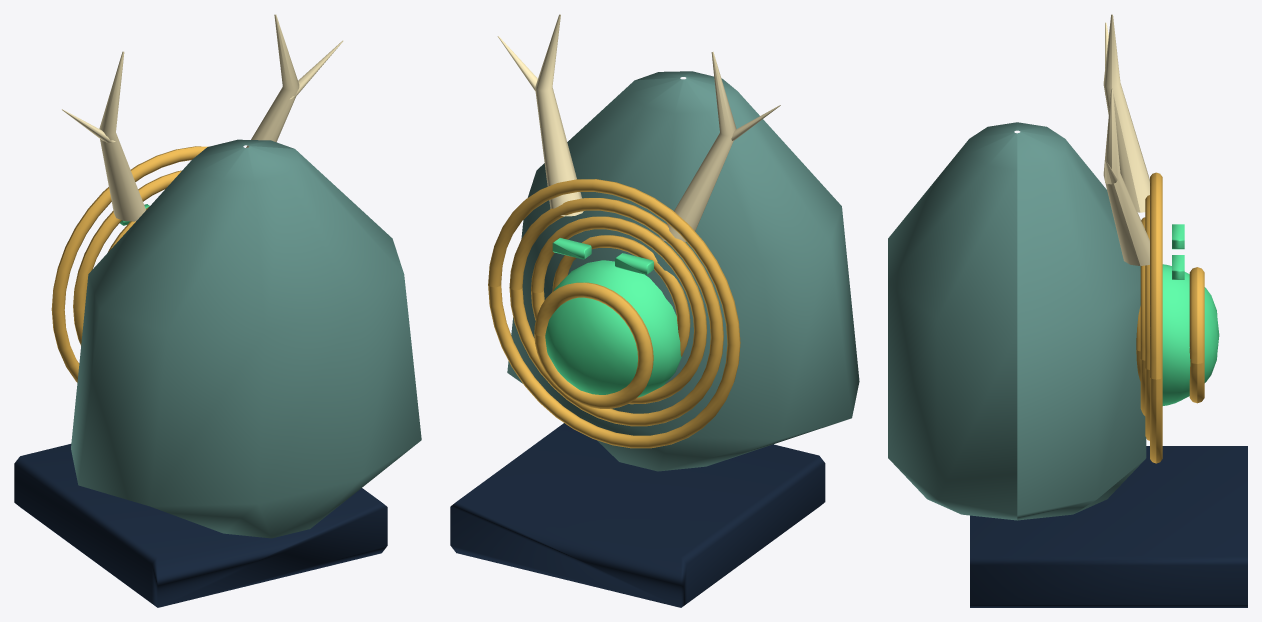
File: creature_0_2.glb
The picture shows the model from 3 angles, left to right: view 1: azimuth 30°, elevation 25°; view 2: azimuth 150°, elevation 25°; view 3: azimuth 270°, elevation 25°; orthographic projection.
Parts seen in each view (by area): view 1: Shell, Foot, ShellGrowth (×2), Antler (×2); view 2: Shell, Foot, ShellGrowth (×4), GlassCore, Antler (×2), GiltOrbRim, EyeSlit (×2); view 3: Shell, Foot, Antler (×2), ShellGrowth (×3), GlassCore, GiltOrbRim.
Part boxes in pixels (x1=…): Shell: x1=71, y1=139, x2=421, y2=538; Foot: x1=14, y1=444, x2=387, y2=607; ShellGrowth (×2): x1=51, y1=146, x2=207, y2=382; Antler (×2): x1=99, y1=14, x2=299, y2=221; Shell: x1=507, y1=71, x2=859, y2=471; Foot: x1=450, y1=423, x2=825, y2=607; ShellGrowth (×4): x1=488, y1=179, x2=740, y2=448; GlassCore: x1=545, y1=260, x2=681, y2=397; Antler (×2): x1=535, y1=14, x2=736, y2=241; GiltOrbRim: x1=534, y1=282, x2=653, y2=408; EyeSlit (×2): x1=552, y1=238, x2=653, y2=274; Shell: x1=888, y1=122, x2=1146, y2=520; Foot: x1=970, y1=446, x2=1247, y2=607; Antler (×2): x1=1103, y1=14, x2=1149, y2=265; ShellGrowth (×3): x1=1140, y1=172, x2=1162, y2=463; GlassCore: x1=1162, y1=264, x2=1219, y2=405; GiltOrbRim: x1=1189, y1=267, x2=1204, y2=403.
Bounding box in the file's own units: 1.24 × 1.75 × 1.14.
